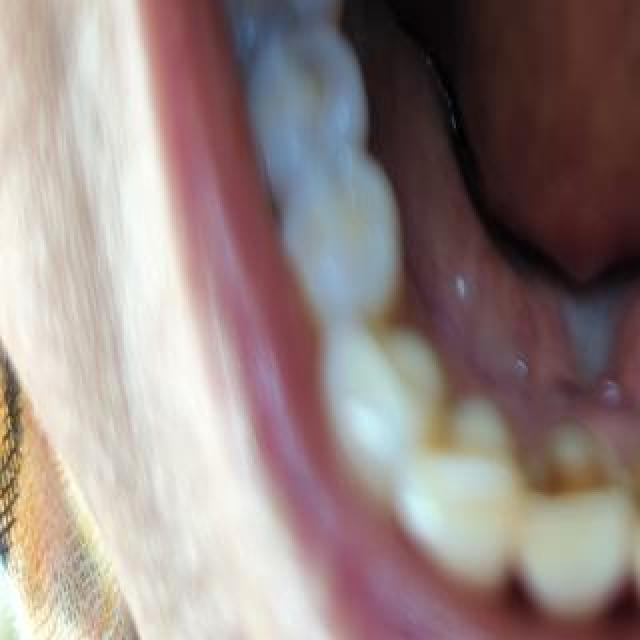stains: (338, 299, 446, 455), (509, 412, 613, 554), (638, 436, 640, 582)
